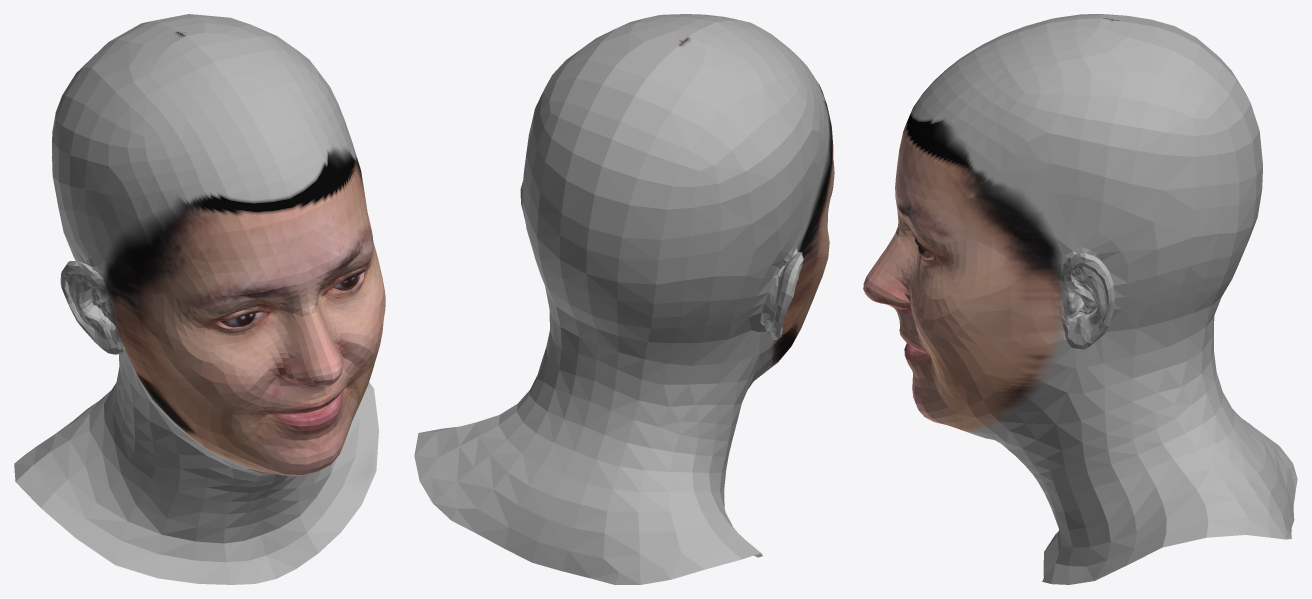
The picture shows the model from 3 angles, left to right: view 1: azimuth 30°, elevation 25°; view 2: azimuth 150°, elevation 25°; view 3: azimuth 270°, elevation 25°; orthographic projection.
Size of the model in its own units: 0.2127 by 0.323 by 0.2398.
1 material, 1 textured.
